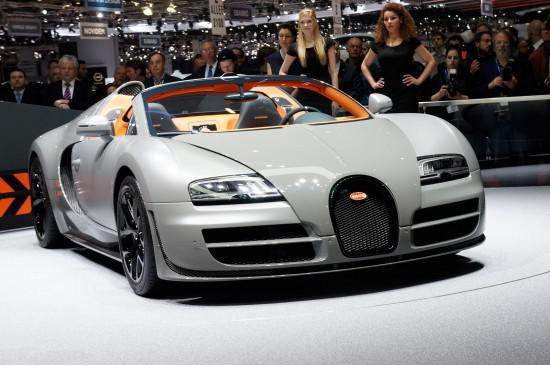Car: (14, 64, 510, 319)
